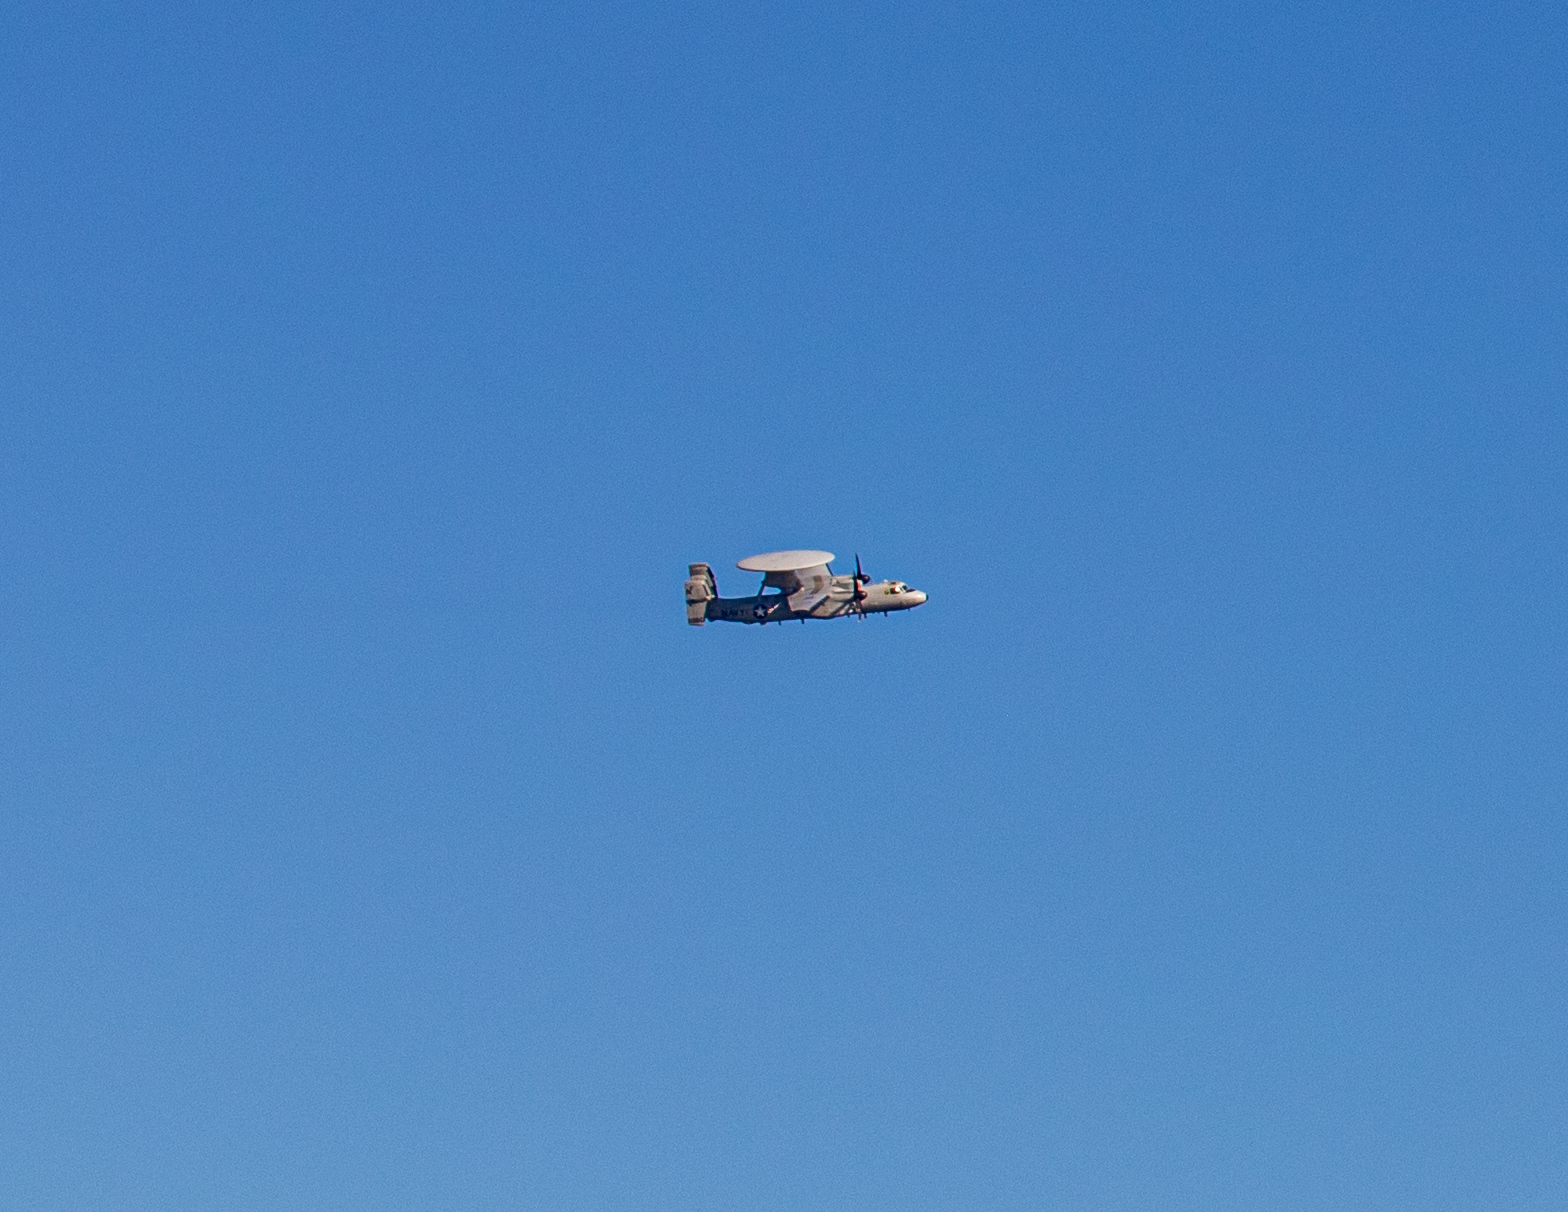E2: (683, 550, 929, 628)
